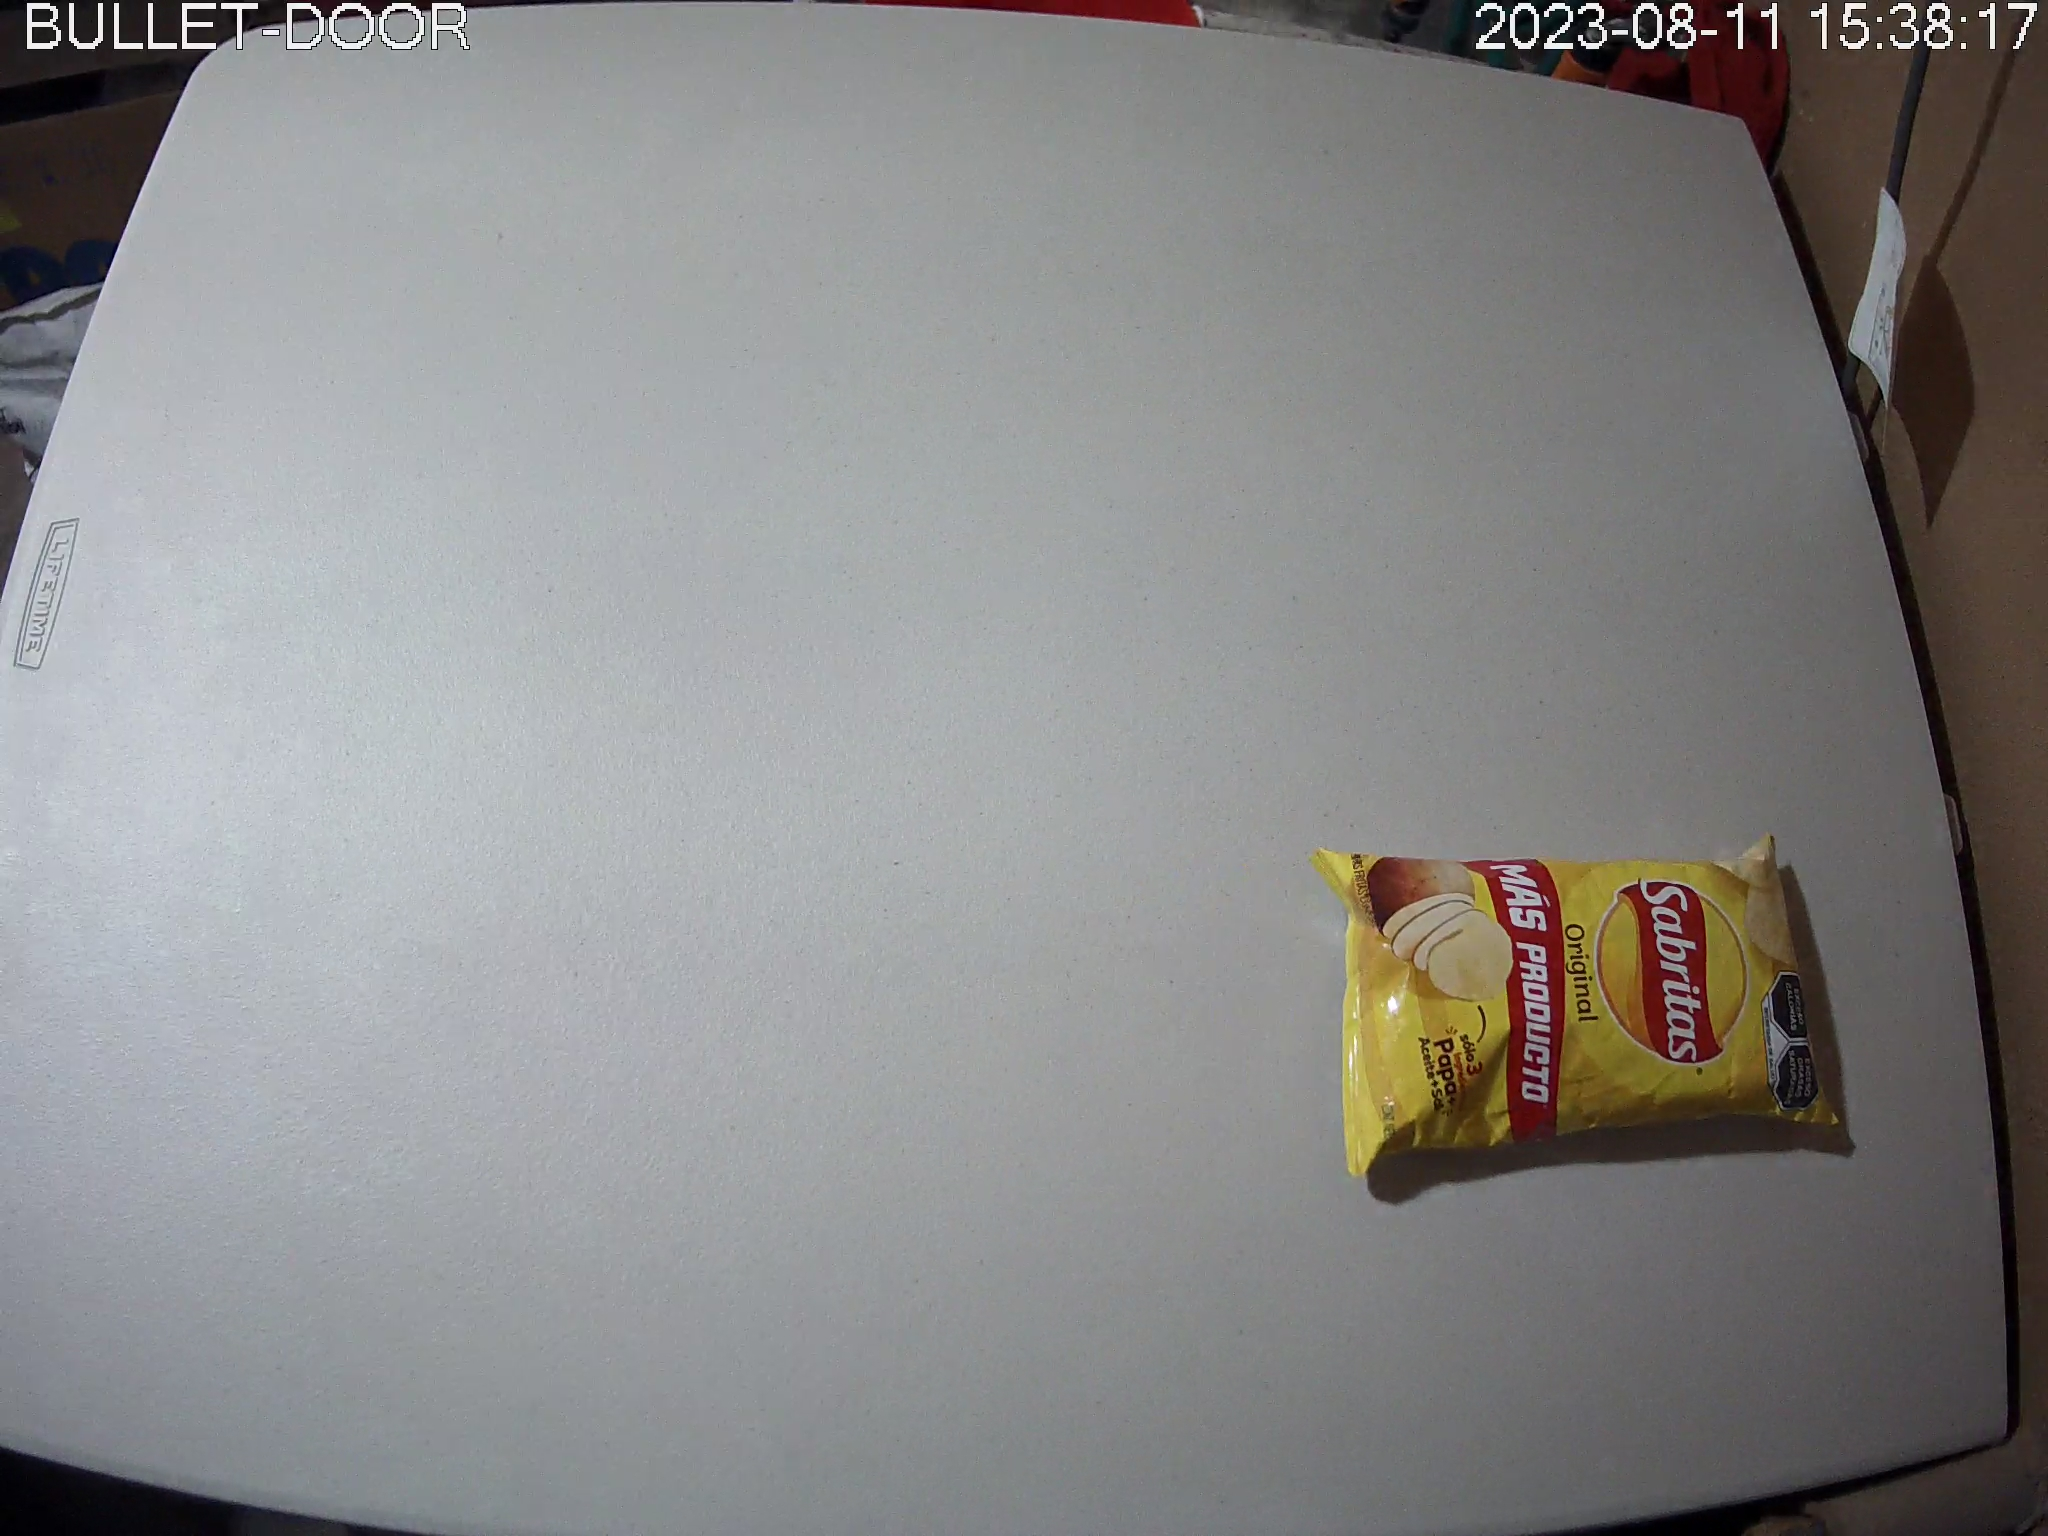Sabritas_45_F: (1314, 833, 1843, 1178)
